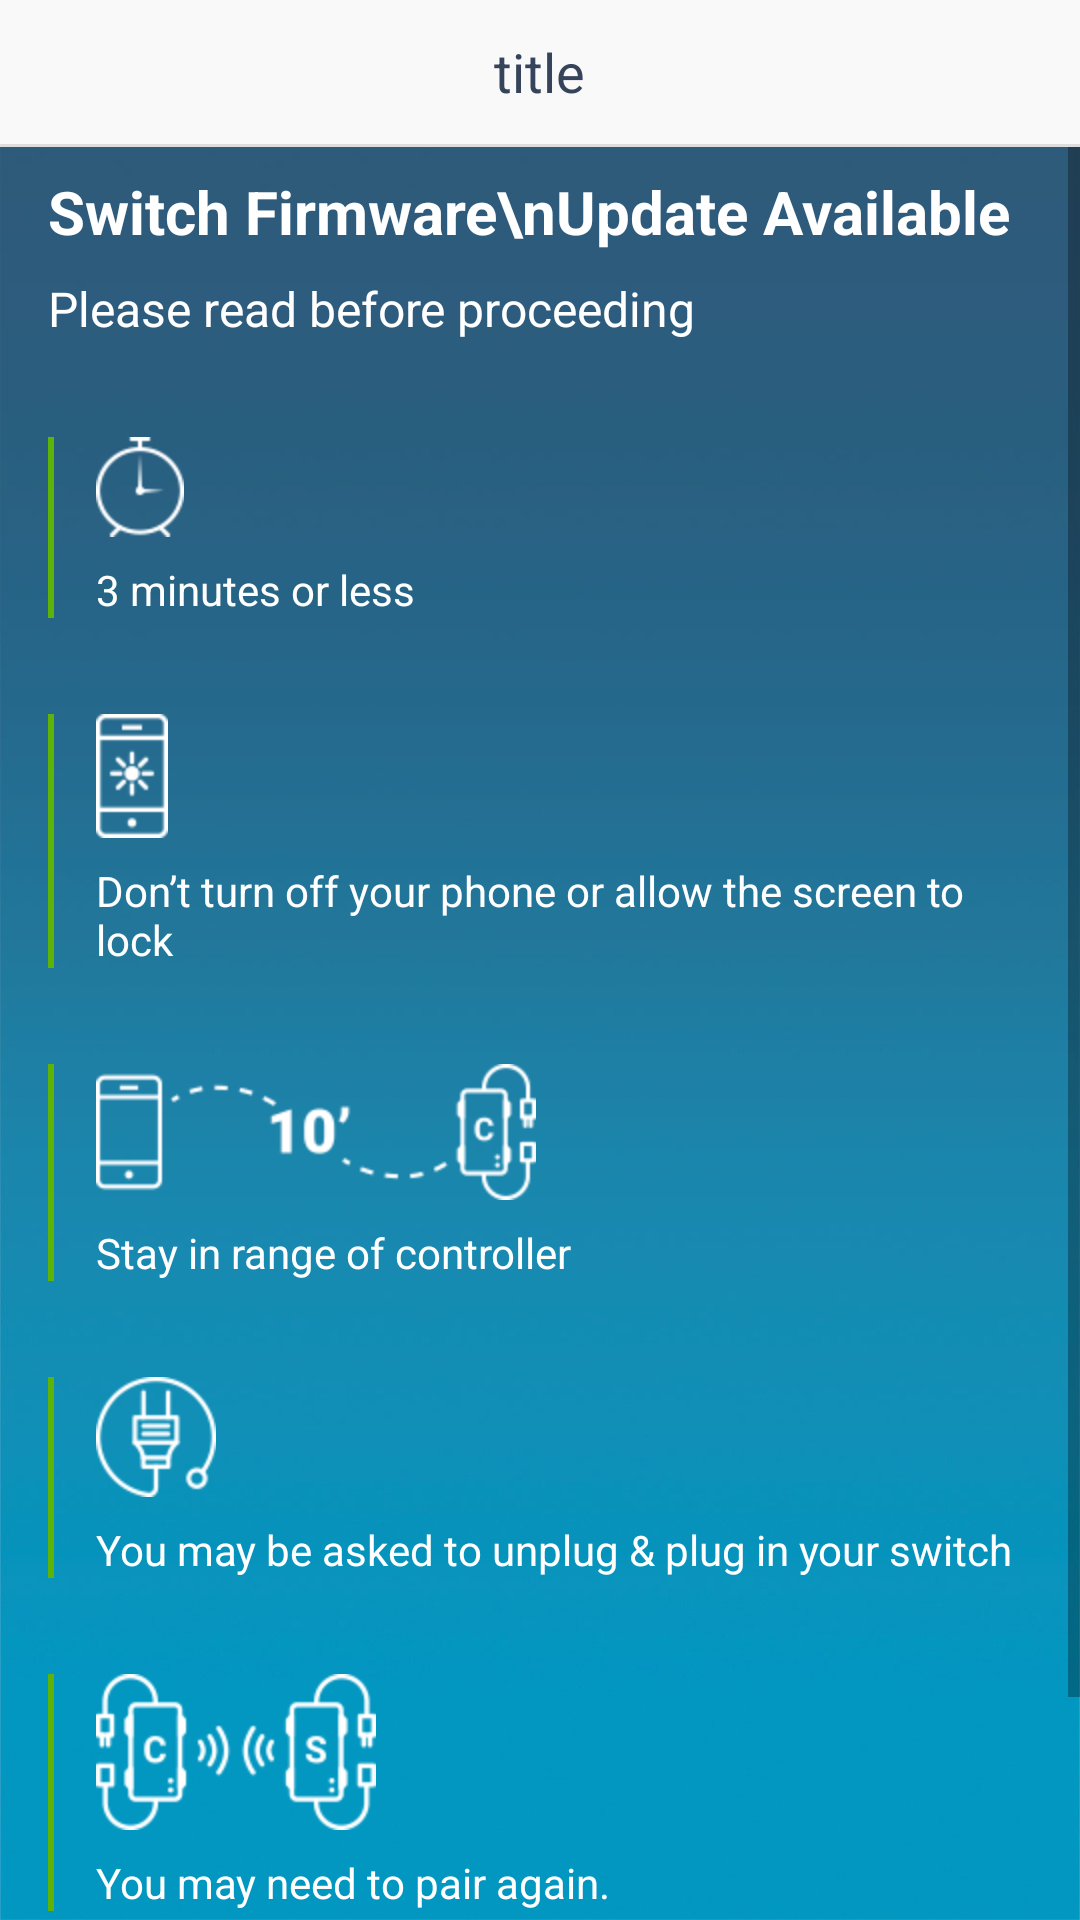

Icons on this 1080px x 1920px Android screen, each with its box as (x1, y1, x2, y2):
clock: (96, 437, 184, 537)
re pair switch: (96, 1674, 376, 1830)
